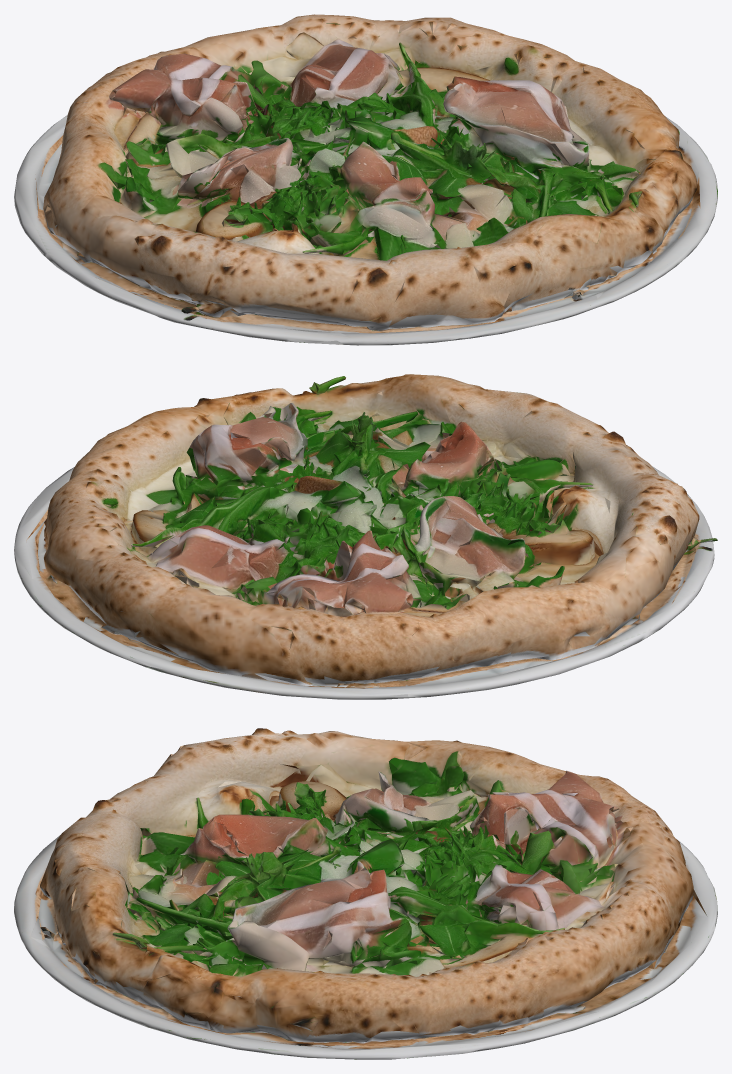
Rendered from pizza-prosciutto.glb.
3 renders of one model, top to bottom at view 1: azimuth 30°, elevation 25°; view 2: azimuth 150°, elevation 25°; view 3: azimuth 270°, elevation 25°, orthographic.
Parts seen in each view (by area): view 1: output_unwrapped; view 2: output_unwrapped; view 3: output_unwrapped.
Part boxes in pixels (left/top/right/bottom): output_unwrapped: left=14, top=14, right=717, bottom=345; output_unwrapped: left=14, top=374, right=717, bottom=699; output_unwrapped: left=14, top=728, right=717, bottom=1059.
Size of the model in its own units: 0.1657 by 0.025 by 0.166.
Materials: 1 (1 with a texture image).
